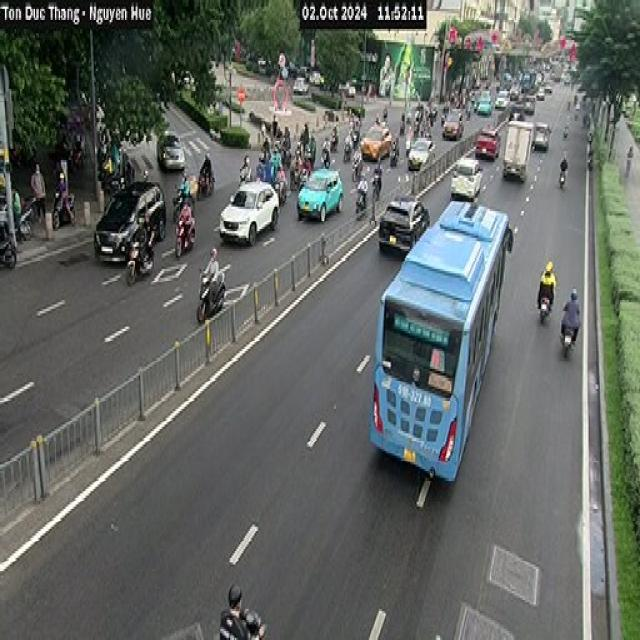bus: (368, 198, 512, 482)
car: (219, 178, 279, 244), (377, 190, 431, 257), (296, 167, 344, 222), (450, 156, 482, 200), (360, 122, 391, 160), (156, 131, 185, 171), (406, 136, 434, 171), (475, 127, 500, 160), (531, 120, 549, 151)
motorcycle: (196, 264, 226, 322), (125, 238, 154, 284), (174, 213, 195, 258), (558, 322, 578, 356), (539, 294, 551, 322)
person: (219, 582, 266, 638), (54, 171, 75, 227), (560, 286, 580, 344), (200, 246, 219, 306), (536, 260, 556, 311), (30, 162, 46, 222), (11, 187, 21, 240)
